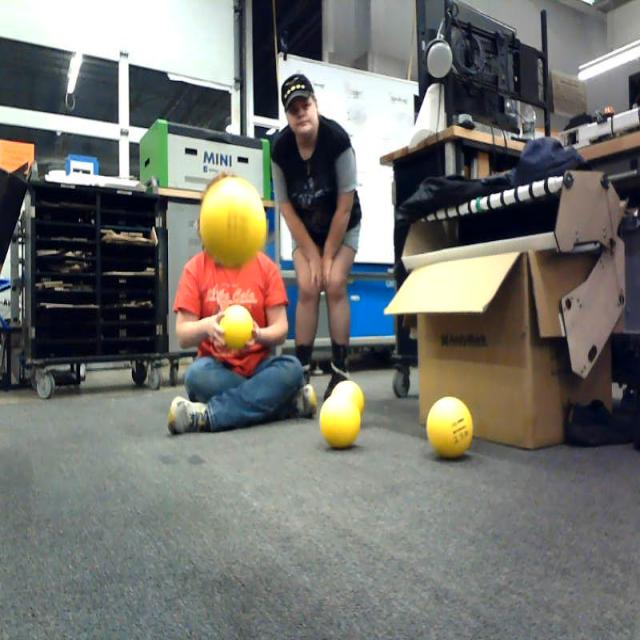Fuel: (202, 177, 266, 266), (427, 397, 473, 459), (319, 393, 362, 448), (330, 381, 365, 424), (219, 306, 252, 349)
